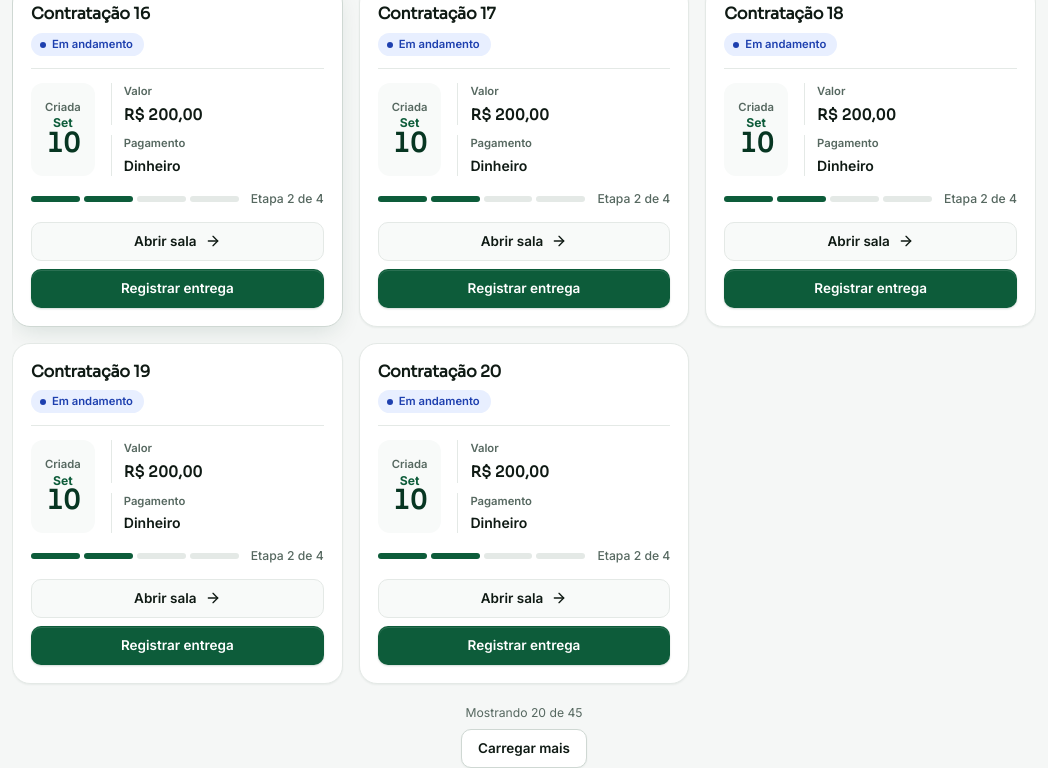
Test: MyContracts › o total é o da API: 20 na página de 45 no total, e "Carregar mais" traz as próximas até acabar
The image size is (1048, 768).
(page scrolled)
Expected: the text with test id "contracts-shown" reads "Mostrando 20 de 45", [466,704,583,721]
Click the button "Carregar mais".
click(524, 749)  # box [461,729,587,767]
(page scrolled)
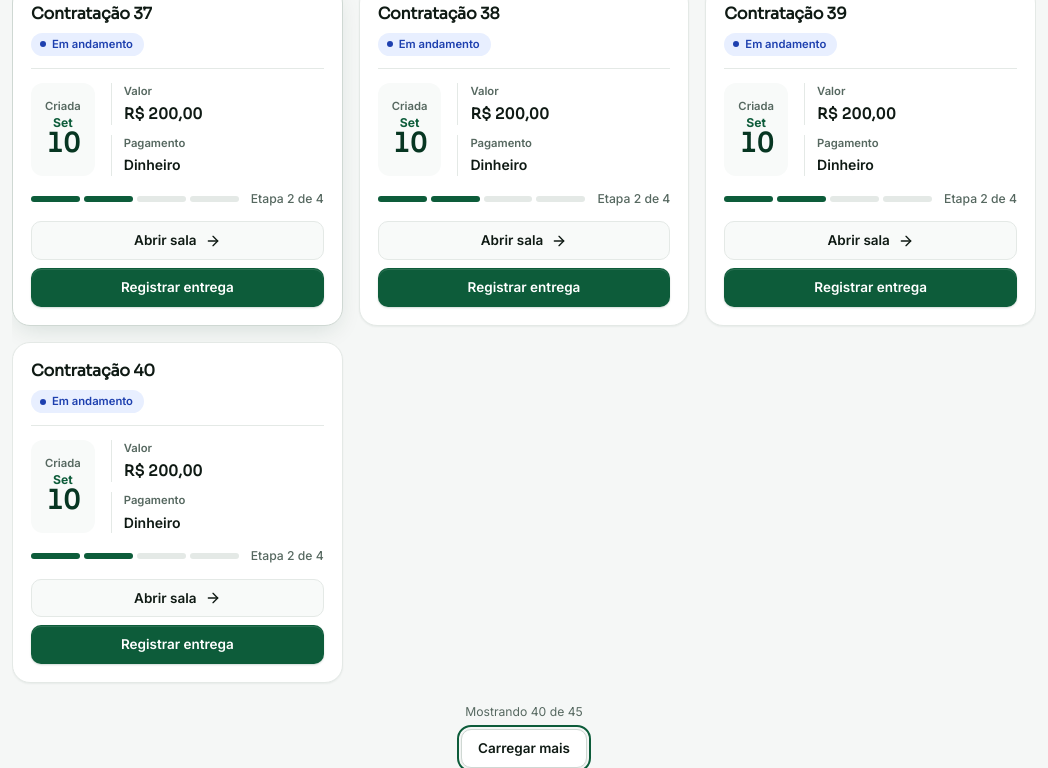
Result: the text with test id "contracts-shown" reads "Mostrando 40 de 45" at [465,703,583,721]
Click the button "Carregar mais".
click(524, 748)  # box [461,729,587,767]
(page scrolled)
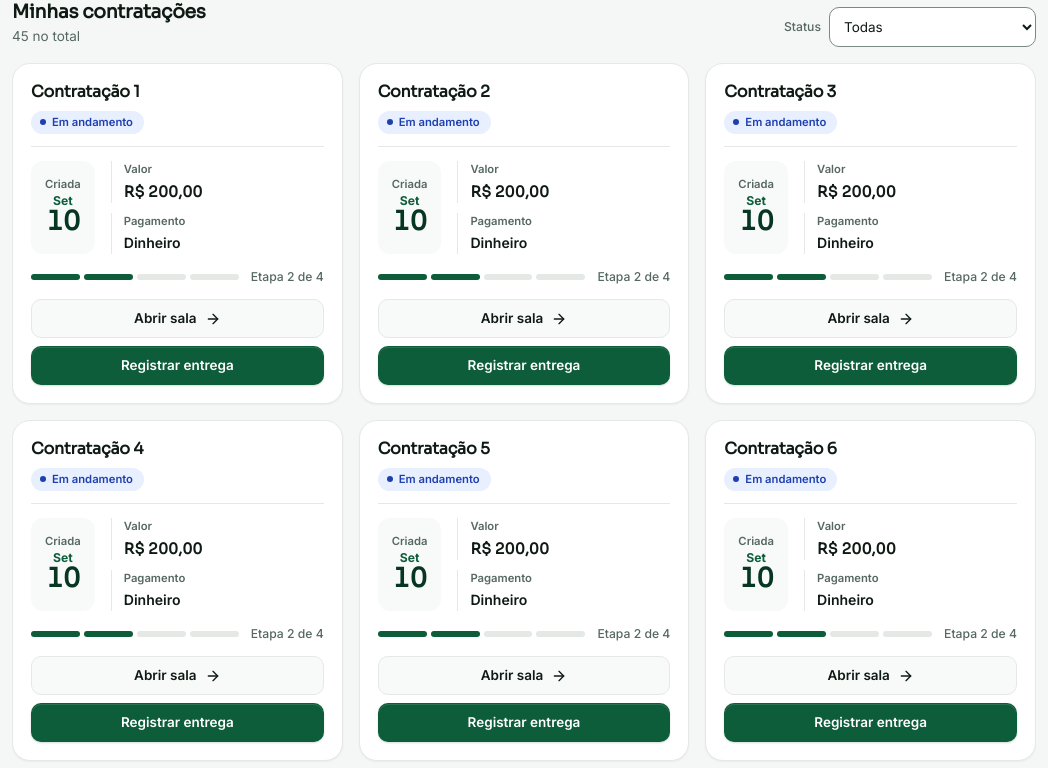
Expected: the text with test id "contracts-total" reads "45 no total", [12,28,80,44]
Result: the button "Carregar mais" is gone
Result: the text with test id "contracts-shown" is gone
